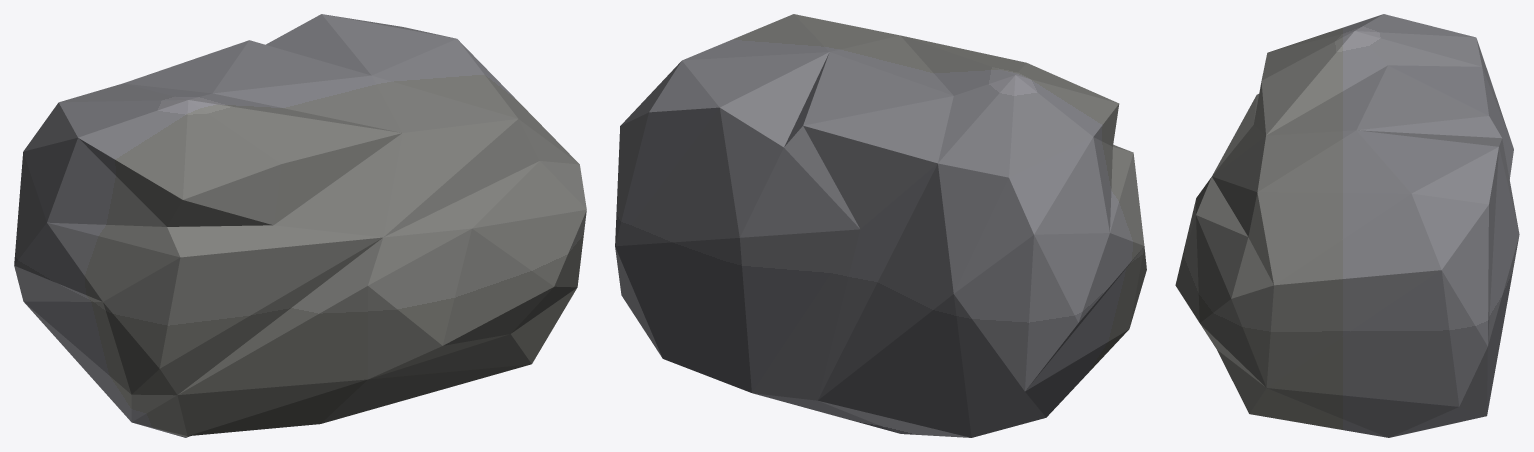
File: YN_Rock5.fbx
3 renders of one model, left to right at view 1: azimuth 30°, elevation 25°; view 2: azimuth 150°, elevation 25°; view 3: azimuth 270°, elevation 25°, orthographic. The views are drawn at different scales.
Parts seen in each view (by area): view 1: Rock5; view 2: Rock5; view 3: Rock5.
Part boxes in pixels (left/top/right/bottom): Rock5: left=14, top=14, right=586, bottom=437; Rock5: left=615, top=14, right=1146, bottom=437; Rock5: left=1175, top=14, right=1519, bottom=437.
Size of the model in its own units: 0.6512 by 0.4671 by 0.4678.
